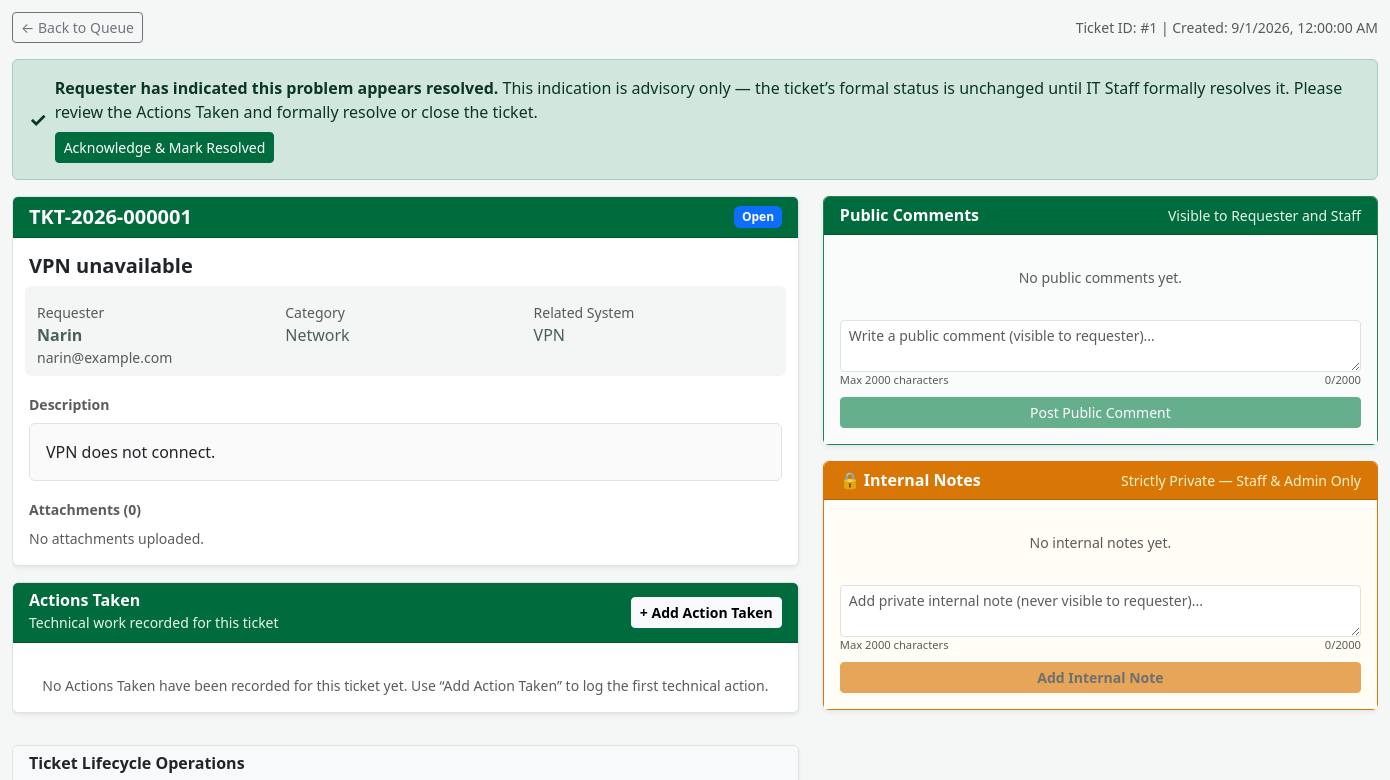
Resolution behavior: advisory indication vs formal resolution › shows the advisory banner with an acknowledge action when the requester indicates resolution
Expected: the text "Requester has indicated this problem appears resolved." is shown, [55,77,498,99]
Expected: the text "advisory only" is shown, [55,77,1342,123]
Click the button "Acknowledge & Mark Resolved". click: (164, 148)
box: [55,132,274,163]
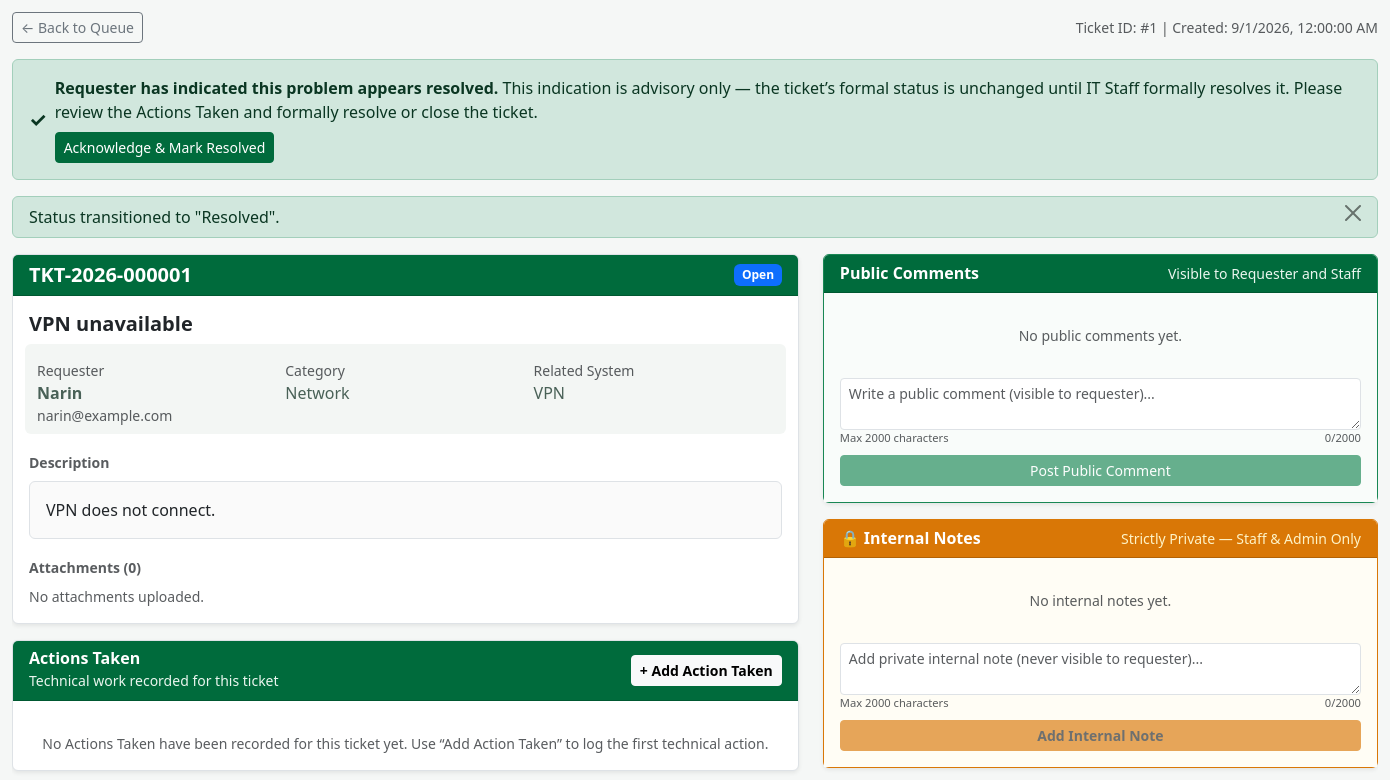
Result: the text "Status transitioned to \"Resolved\"." is shown at [29,206,280,228]
